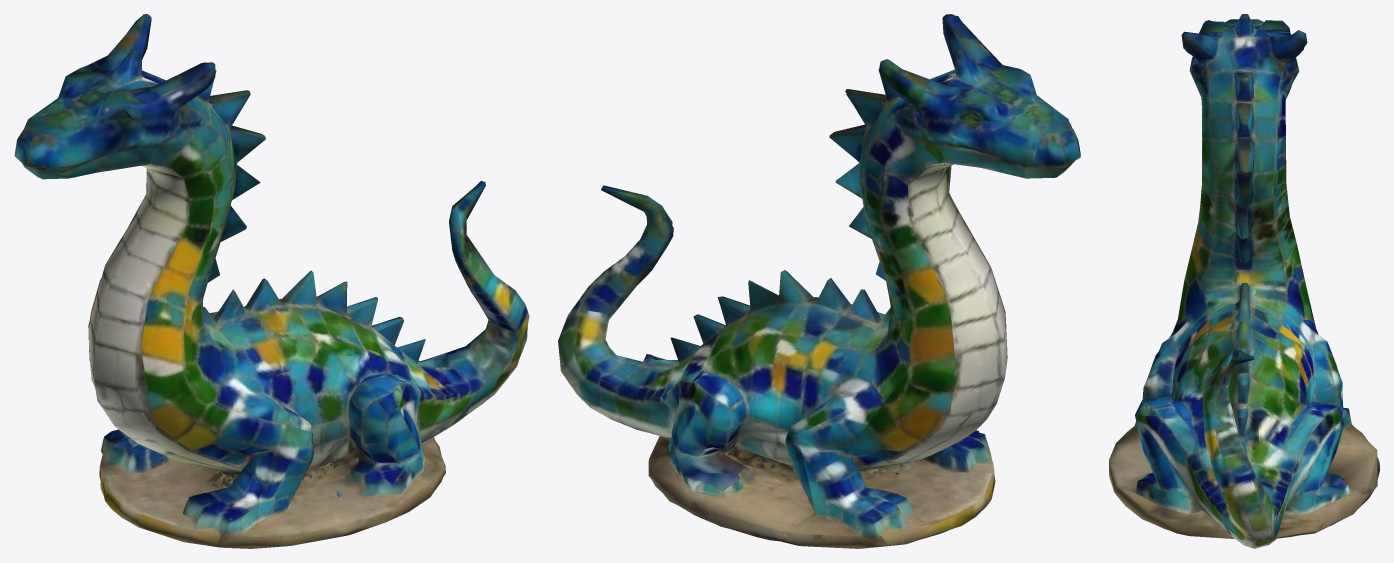
The model's file is barcelona-drac.glb.
3 views of the same model, side by side, from view 1: azimuth 30°, elevation 25°; view 2: azimuth 150°, elevation 25°; view 3: azimuth 270°, elevation 25° (orthographic). The views are drawn at different scales.
Parts seen in each view (by area): view 1: geometry_0; view 2: geometry_0; view 3: geometry_0.
Boxes of the visible parts, x1=… form: geometry_0: x1=14, y1=14, x2=529, y2=548; geometry_0: x1=558, y1=14, x2=1080, y2=548; geometry_0: x1=1109, y1=14, x2=1379, y2=548.
Size of the model in its own units: 0.9985 by 0.8761 by 0.5286.
1 material, 1 textured.
